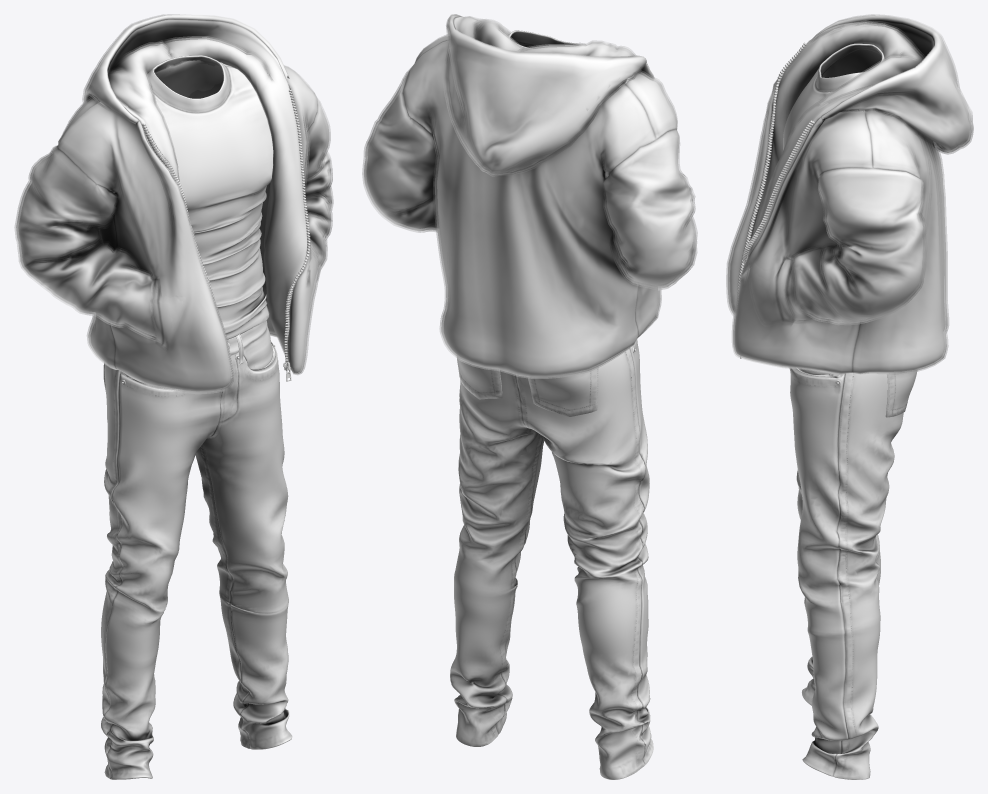
File: full_hoodie.glb
3 renders of one model, left to right at view 1: azimuth 30°, elevation 25°; view 2: azimuth 150°, elevation 25°; view 3: azimuth 270°, elevation 25°, orthographic. The views are drawn at different scales.
Visible parts, largest first — view 1: jacket04, pants01, shirt01; view 2: jacket04, pants01, shirt01; view 3: jacket04, pants01, shirt01.
Part boxes in pixels (x1,y1,x2,y2): jacket04: [14, 14, 333, 393]; pants01: [101, 320, 292, 779]; shirt01: [147, 55, 273, 339]; jacket04: [362, 14, 697, 378]; pants01: [450, 339, 653, 779]; shirt01: [507, 30, 578, 50]; jacket04: [726, 14, 973, 374]; pants01: [789, 367, 917, 779]; shirt01: [783, 43, 884, 150].
Size of the model in its own units: 0.7331 by 1.62 by 0.5148.
7 materials, 7 textured.
